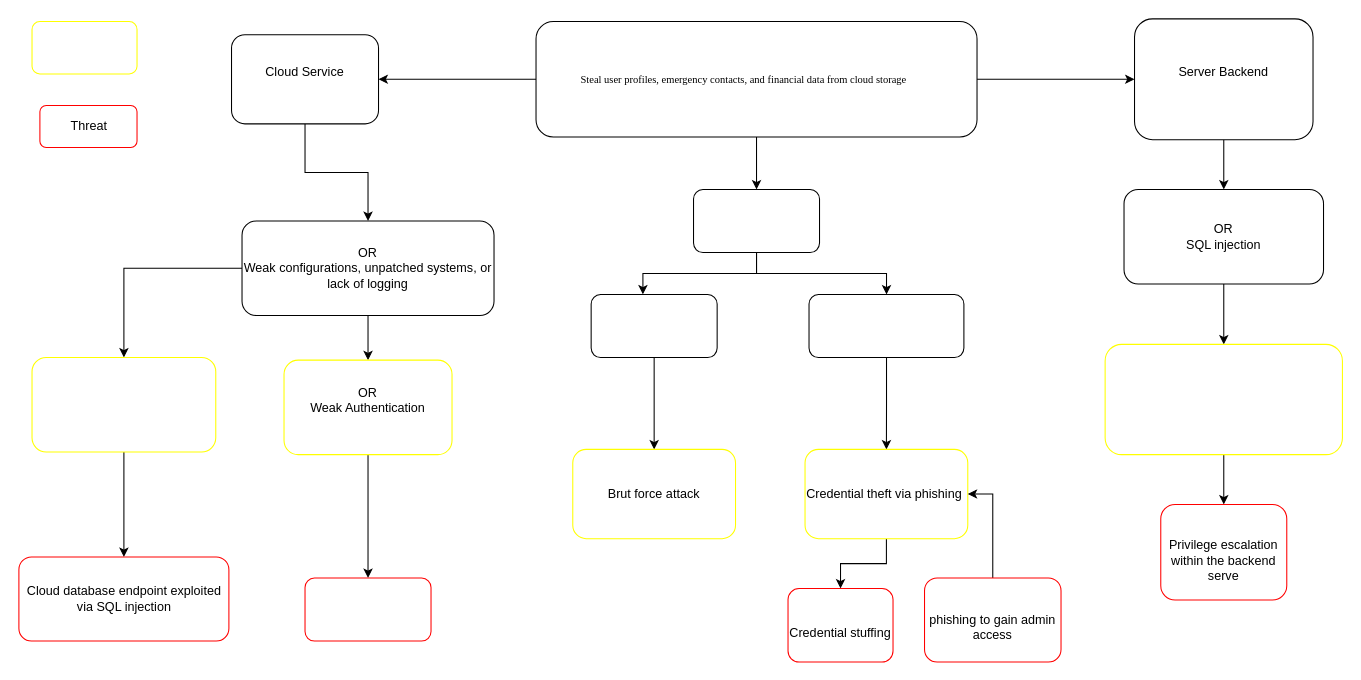
Some shapes in this 1361 by 680 pixel diagram are drawn without their labels. The box of each missing label's shape, as (x1, y1, x2, y2) in pixels:
Authentication Server: (692, 188, 820, 253)
Extract sensitive information from backend databases :: (1104, 343, 1342, 455)
OR No multi-factor authentication: (808, 293, 964, 358)
Or use of weak hashing algorithms: (590, 293, 717, 358)
Social engineering (phishing admins).: (304, 577, 431, 641)
Unauthorized access to sensitive user data stored in the cloud: (31, 356, 216, 452)
Vulnerability: (31, 20, 137, 74)
